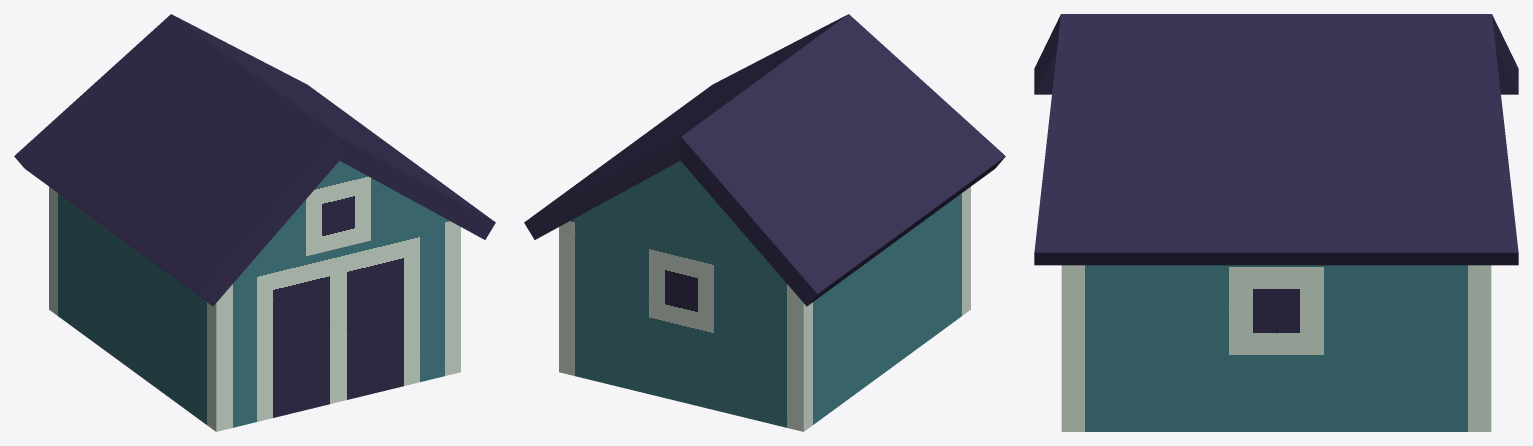
The model's file is barn.glb.
3 renders of one model, left to right at view 1: azimuth 30°, elevation 25°; view 2: azimuth 150°, elevation 25°; view 3: azimuth 270°, elevation 25°, orthographic. The views are drawn at different scales.
Visible parts, largest first — view 1: Walls, RoofL, Gable, RoofR; view 2: Walls, RoofL, Gable, RoofR; view 3: RoofR, Walls, RoofL.
Part boxes in pixels (x1,y1,x2,y2): Walls: (49, 187, 460, 431); RoofL: (14, 14, 339, 306); Gable: (244, 160, 449, 271); RoofR: (171, 14, 495, 239); Walls: (559, 187, 970, 431); RoofL: (680, 14, 1005, 306); Gable: (570, 160, 775, 271); RoofR: (524, 14, 848, 239); RoofR: (1034, 14, 1518, 265); Walls: (1061, 265, 1491, 431); RoofL: (1034, 14, 1518, 94).
Bounding box in the file's own units: 3.6 × 3.11 × 4.
Materials: 7 (5 with a texture image).
